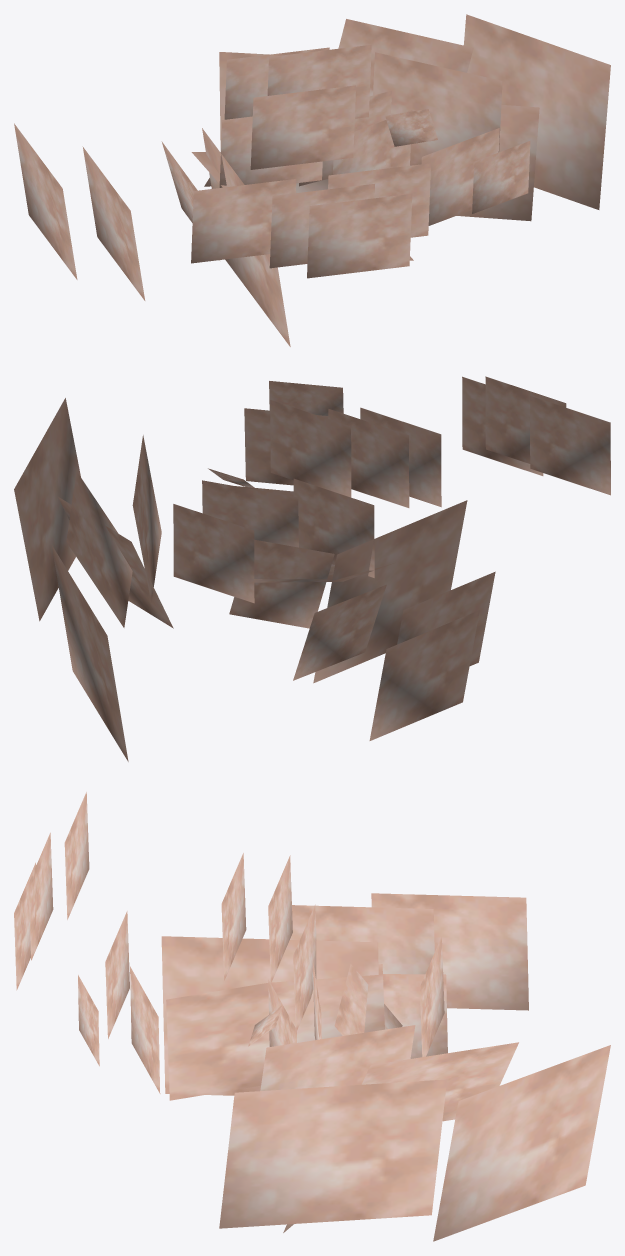
File: stg220_MotCloud_13.obj
3 views of the same model, one above another, from view 1: azimuth 30°, elevation 25°; view 2: azimuth 150°, elevation 25°; view 3: azimuth 270°, elevation 25° (orthographic). The views are drawn at different scales.
Visible parts, largest first — view 1: polygon7, polygon6, polygon18, polygon22, polygon21, polygon12, polygon16, polygon19, polygon8, polygon2, polygon1, polygon0 (+11 smaller); view 2: polygon0, polygon2, polygon7, polygon10, polygon21, polygon12, polygon15, polygon5, polygon8, polygon13, polygon22, polygon4 (+10 smaller); view 3: polygon7, polygon5, polygon3, polygon2, polygon0, polygon6, polygon1, polygon8, polygon4, polygon16, polygon12, polygon20 (+9 smaller).
Part boxes in pixels (box(x1,y1,x2,y2)): polygon7: box(463, 14, 610, 209); polygon6: box(373, 52, 502, 165); polygon18: box(307, 194, 412, 278); polygon22: box(250, 85, 355, 169); polygon21: box(191, 179, 296, 263); polygon12: box(267, 44, 371, 118); polygon16: box(421, 128, 499, 225); polygon19: box(269, 184, 374, 268); polygon8: box(338, 19, 473, 96); polygon2: box(14, 123, 77, 279); polygon1: box(82, 146, 145, 300); polygon0: box(202, 128, 290, 346); polygon0: box(313, 500, 467, 683); polygon2: box(369, 610, 479, 740); polygon7: box(14, 398, 80, 621); polygon10: box(173, 504, 254, 603); polygon21: box(530, 396, 610, 495); polygon12: box(270, 400, 351, 497); polygon15: box(229, 539, 334, 628); polygon5: box(51, 545, 128, 761); polygon8: box(66, 471, 132, 627); polygon13: box(293, 478, 374, 577); polygon22: box(328, 409, 409, 507); polygon4: box(293, 584, 386, 680); polygon7: box(219, 1079, 447, 1228); polygon5: box(433, 1045, 610, 1241); polygon3: box(166, 964, 384, 1100); polygon2: box(371, 893, 528, 1010); polygon0: box(161, 936, 378, 1095); polygon6: box(260, 1025, 415, 1090); polygon1: box(290, 905, 434, 974); polygon8: box(362, 1042, 518, 1121); polygon4: box(383, 974, 447, 1058); polygon16: box(130, 966, 160, 1093); polygon12: box(268, 855, 292, 983); polygon20: box(105, 911, 129, 1038).
Bounding box in the file's own units: 3724 × 1922 × 3666.
Materials: 1 (1 with a texture image).
